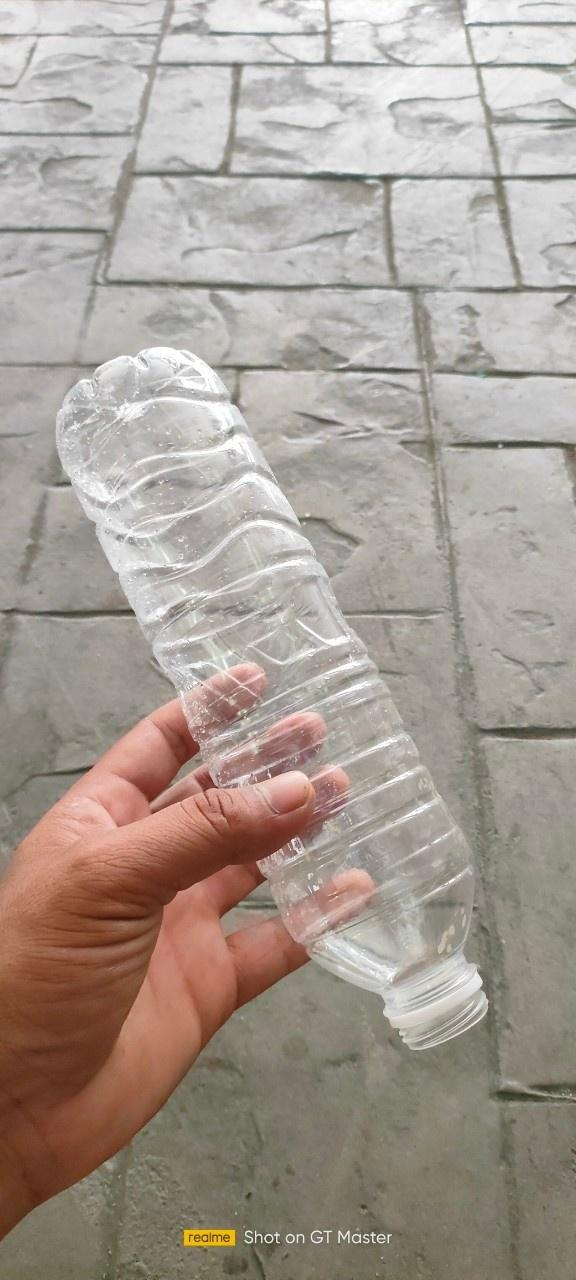plastic_bottle: (56, 347, 489, 1050)
